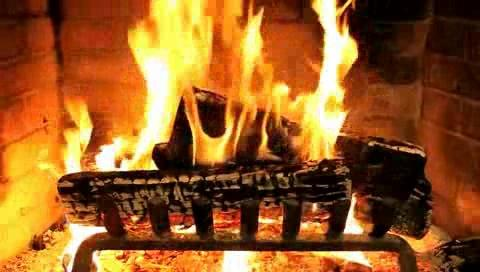fire: (109, 0, 352, 176)
